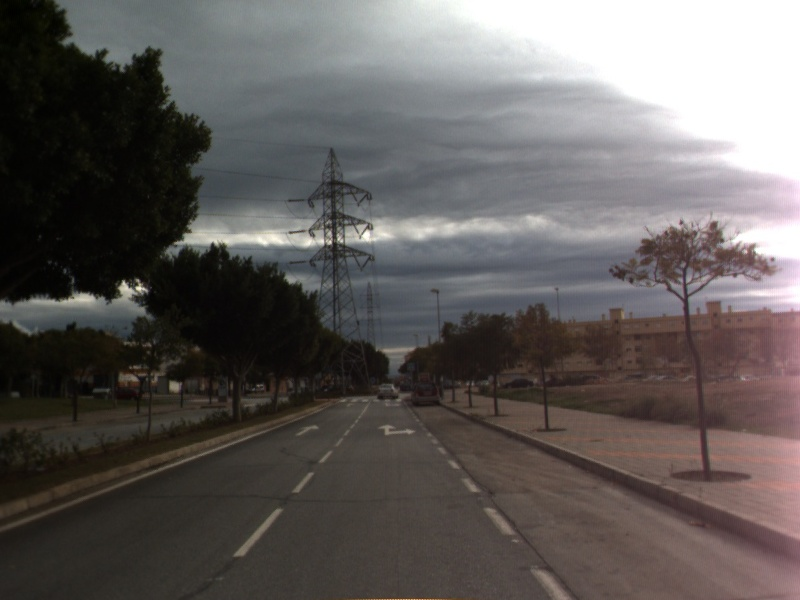STRAIGHT: (293, 422, 321, 438)
STRAIGHT_RIGHT: (376, 423, 418, 437)
